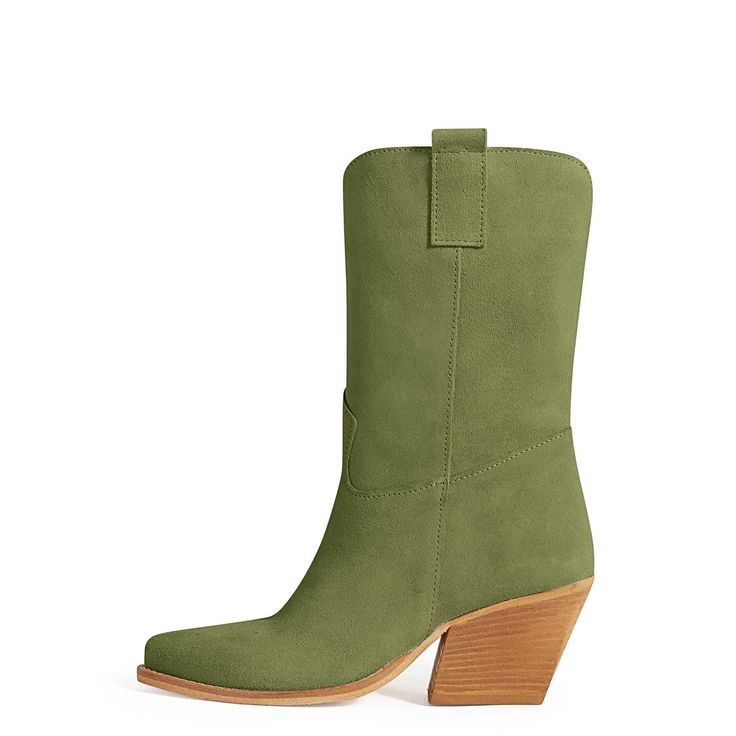gamuza: (145, 128, 595, 690)
